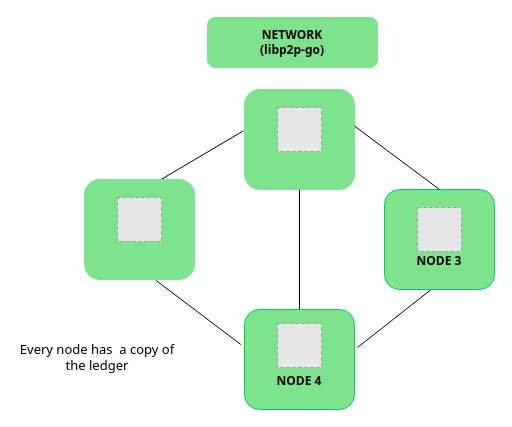
Some shapes in this 512 by 427 pixel diagram are drawn without their labels. Grey dashed boxes stand in for pictures. The box of each missing label's shape, as (x1, y1, x2, y2) in pixels:
NODE 1: (244, 88, 354, 190)
NODE 2: (84, 178, 194, 280)
